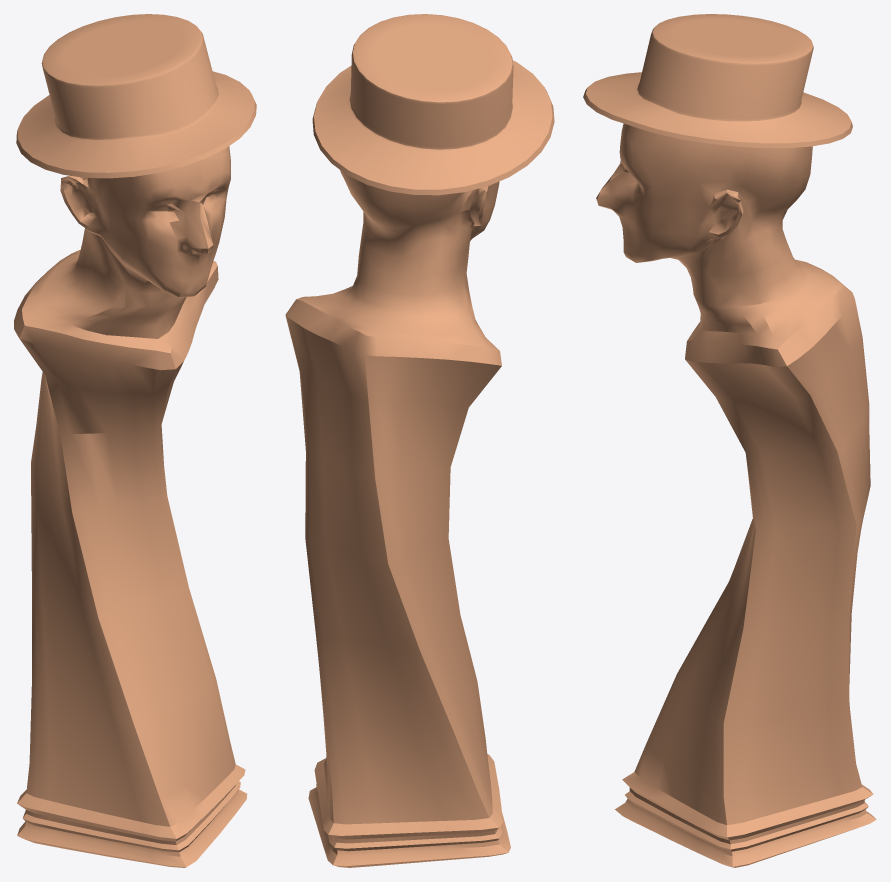
File: Tipo.fbx
The picture shows the model from 3 angles, left to right: view 1: azimuth 30°, elevation 25°; view 2: azimuth 150°, elevation 25°; view 3: azimuth 270°, elevation 25°; orthographic projection.
Parts seen in each view (by area): view 1: Tipo; view 2: Tipo; view 3: Tipo.
Boxes of the visible parts, x1,y1,x2,y2 form: Tipo: (14,14,256,867); Tipo: (285,14,554,867); Tipo: (583,14,876,867).
Size of the model in its own units: 84.14 by 292 by 98.72.
